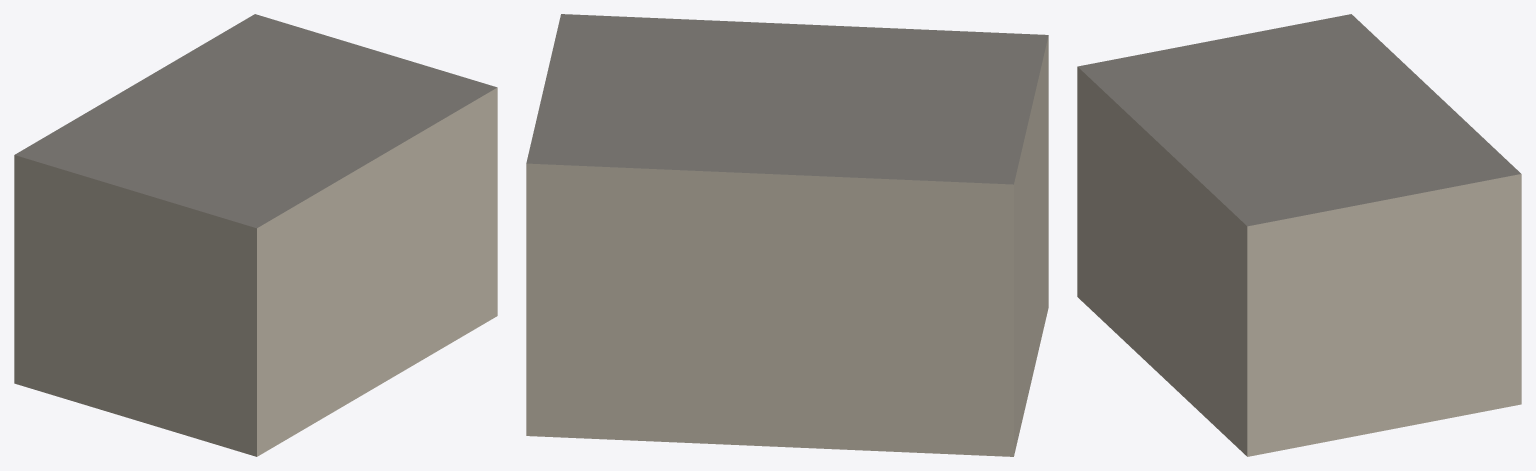
3 views of the same model, side by side, from view 1: azimuth 30°, elevation 25°; view 2: azimuth 150°, elevation 25°; view 3: azimuth 270°, elevation 25° (orthographic). The views are drawn at different scales.
Visible parts, largest first — view 1: HP-w1202250227; view 2: HP-w1202250227; view 3: HP-w1202250227.
Boxes of the visible parts, x1=… form: HP-w1202250227: x1=14, y1=14, x2=497, y2=456; HP-w1202250227: x1=526, y1=14, x2=1048, y2=456; HP-w1202250227: x1=1077, y1=14, x2=1521, y2=456.
Bounding box in the file's own units: 23.71 × 12 × 20.94.
